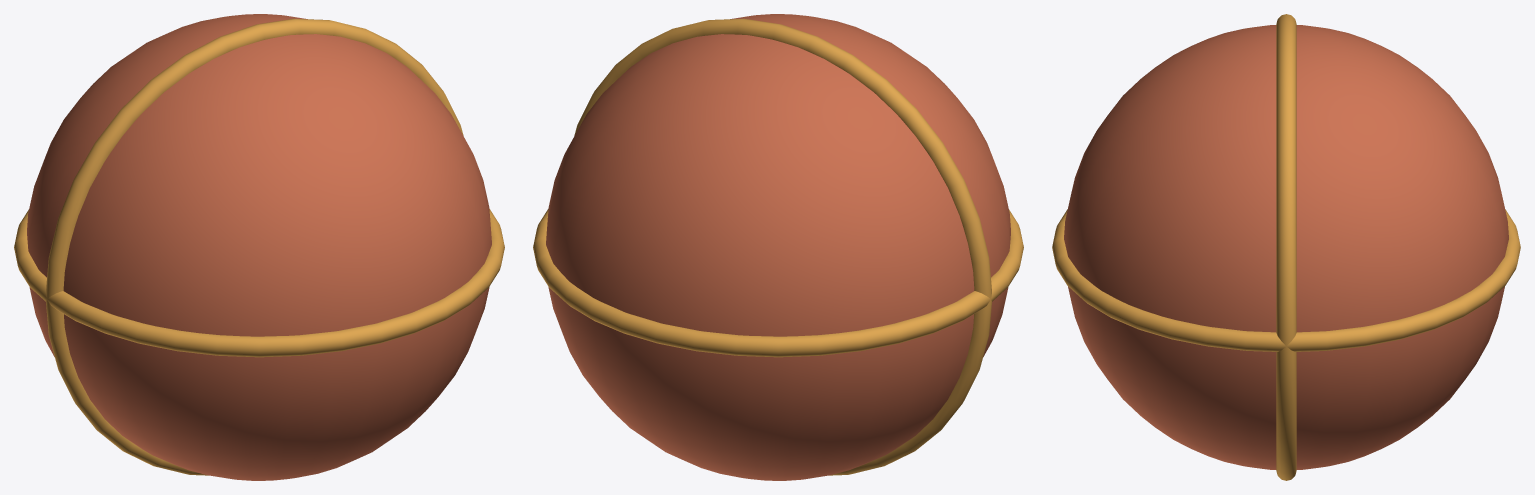
File: rolling_ball_cad.glb
The picture shows the model from 3 angles, left to right: view 1: azimuth 30°, elevation 25°; view 2: azimuth 150°, elevation 25°; view 3: azimuth 270°, elevation 25°; orthographic projection. The views are drawn at different scales.
Visible parts, largest first — view 1: Sphere_Core, Meridian_Band_Z, Meridian_Band_X; view 2: Sphere_Core, Meridian_Band_Z, Meridian_Band_X; view 3: Sphere_Core, Meridian_Band_X, Meridian_Band_Z.
Boxes of the visible parts, left/top/right/bottom form: Sphere_Core: left=27, top=14, right=491, bottom=480; Meridian_Band_Z: left=46, top=18, right=463, bottom=475; Meridian_Band_X: left=14, top=208, right=504, bottom=357; Sphere_Core: left=546, top=14, right=1010, bottom=480; Meridian_Band_Z: left=574, top=18, right=991, bottom=475; Meridian_Band_X: left=533, top=208, right=1023, bottom=357; Sphere_Core: left=1064, top=25, right=1508, bottom=469; Meridian_Band_X: left=1052, top=209, right=1520, bottom=351; Meridian_Band_Z: left=1276, top=14, right=1296, bottom=480.
Size of the model in its own units: 0.462 by 0.462 by 0.462.
